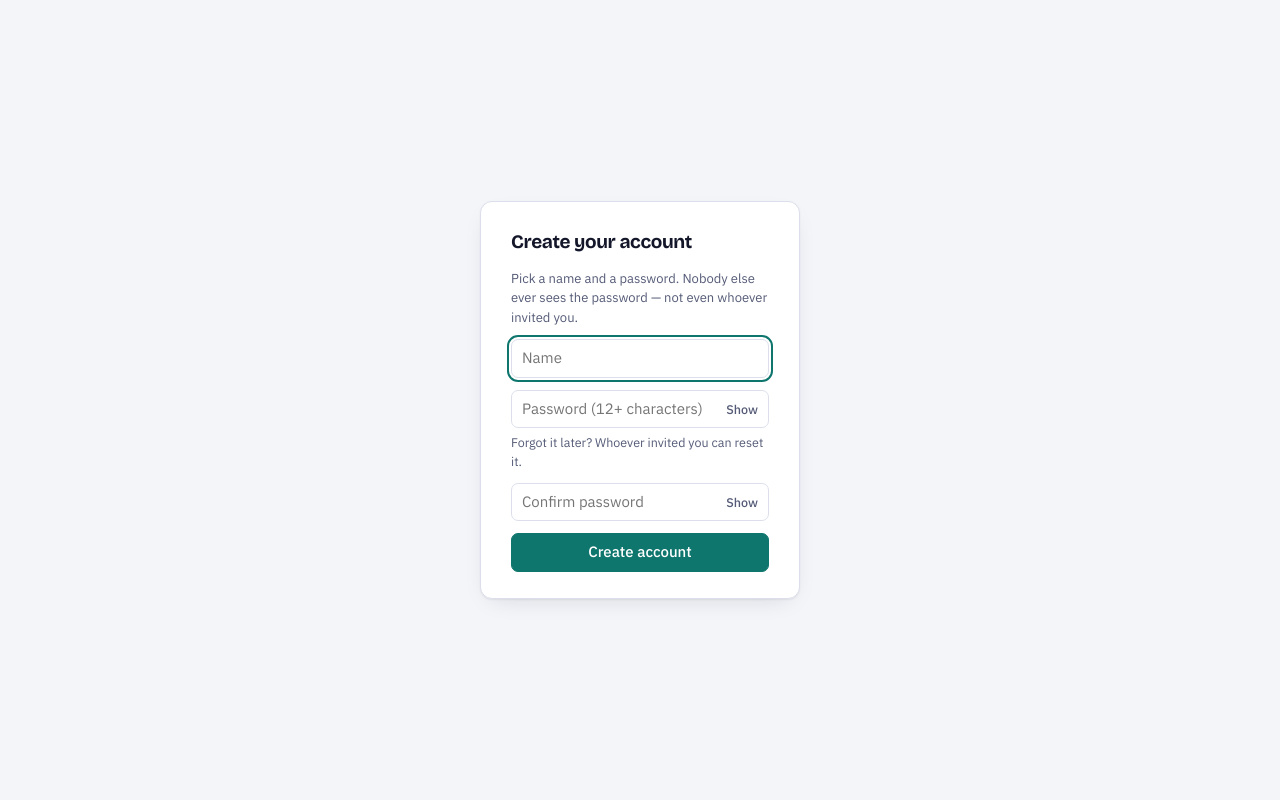
Test: an invite link › signs the new account in, clears the code, and lands on setup
Type "Sam" into the field with placeholder "Name" at point(640, 359), box [511,339,769,378]
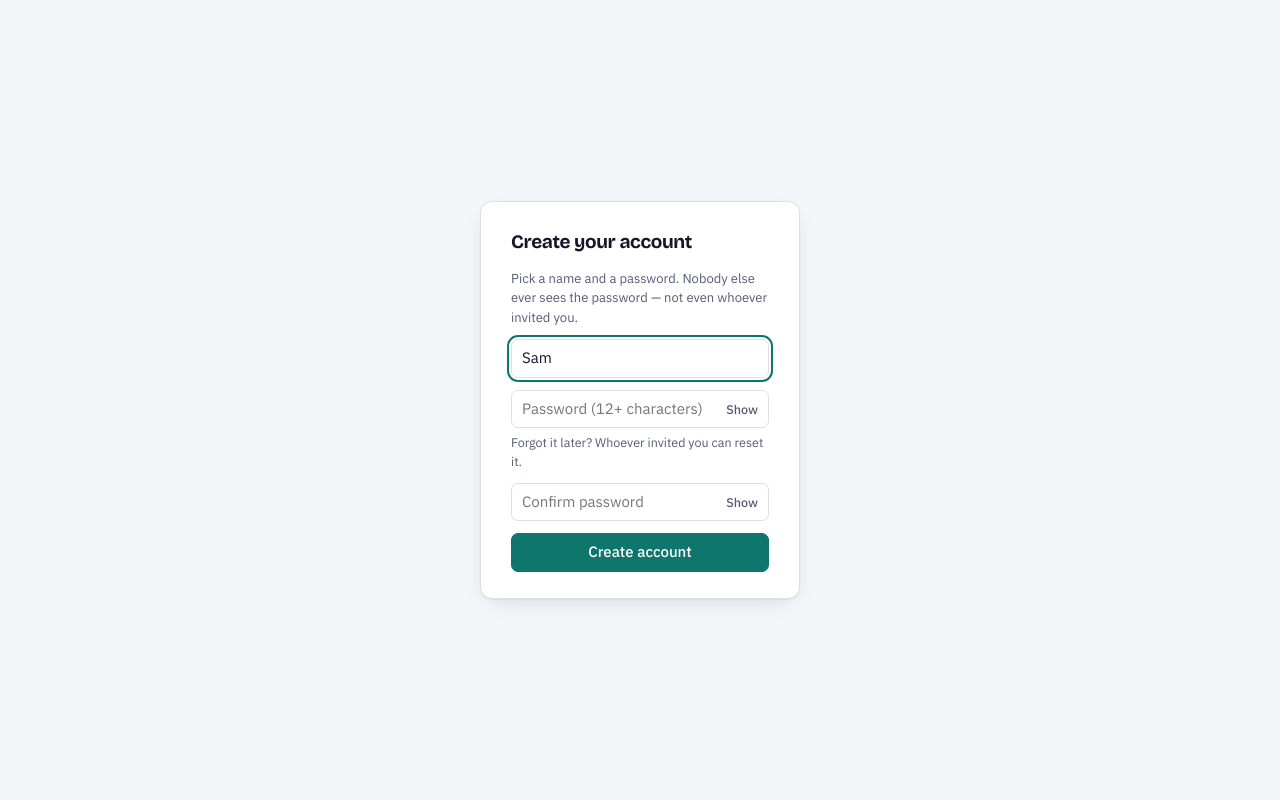
Type "long enough password" into the password field named "Password (12 characters or more)" at point(640, 409), box [511,390,769,428]
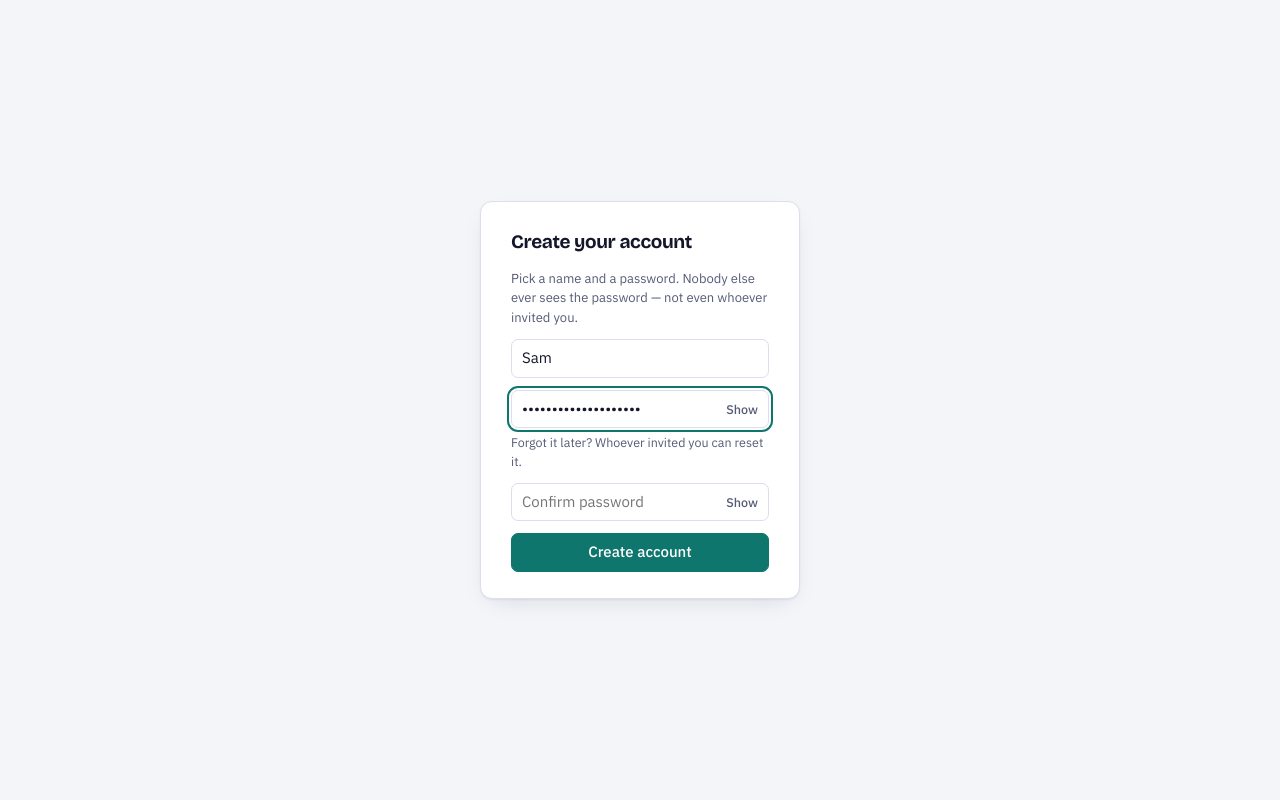
Type "long enough password" into the password field labelled "Confirm password" at point(640, 502), box [511,483,769,521]
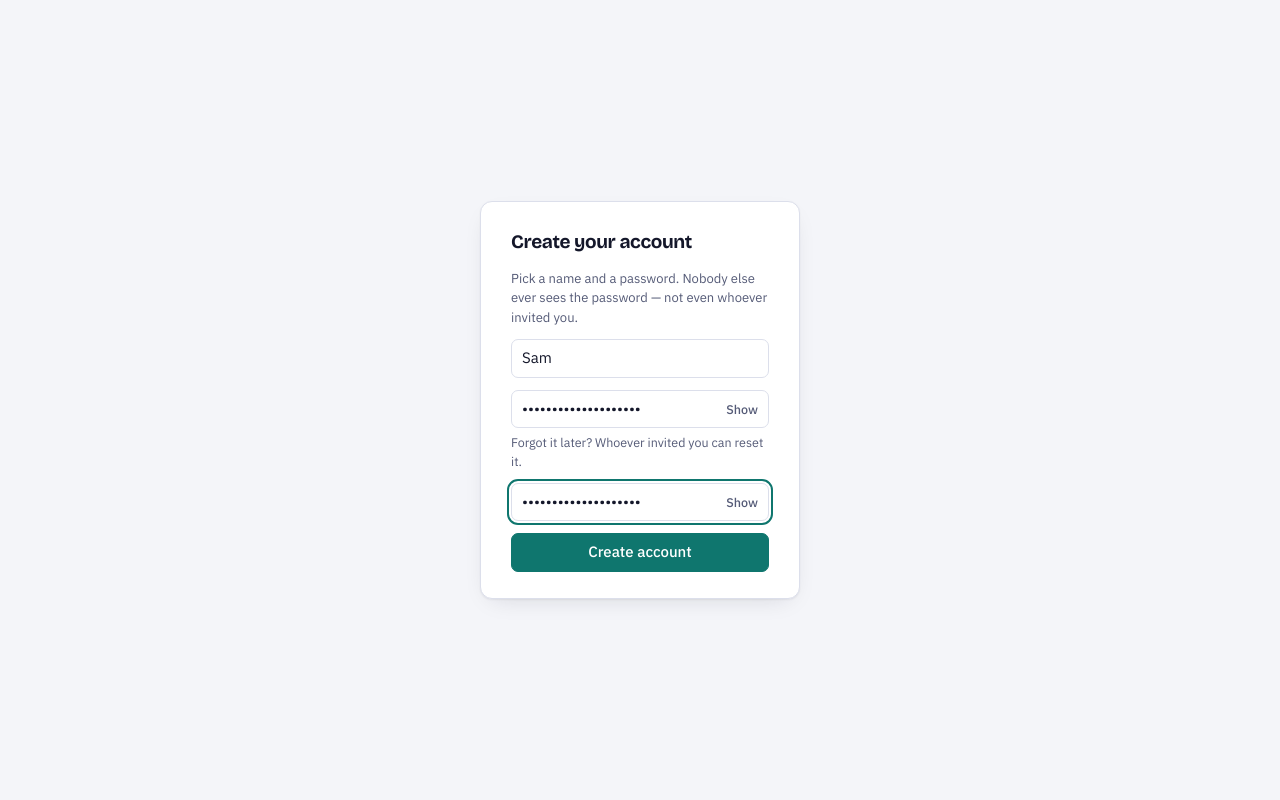
Click the button "Create account" at point(640, 553), box [511,533,769,572]
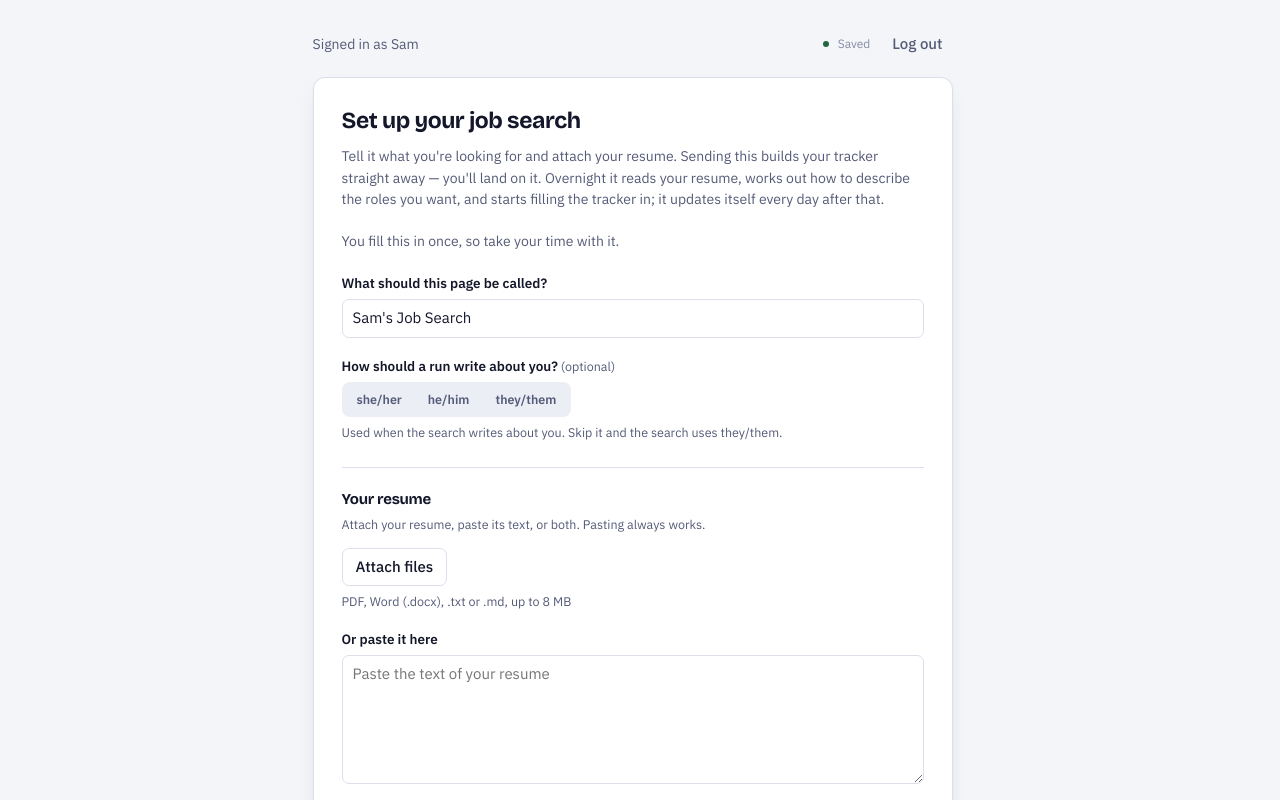
Expected: the heading "Set up your job search" is shown, [342,106,580,134]
